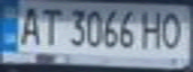0: (84, 6, 106, 49)
3: (63, 6, 87, 47)
6: (118, 7, 139, 51), (103, 6, 124, 49)
A: (15, 2, 45, 46)
H: (139, 7, 169, 51)
O: (157, 8, 187, 51)
T: (36, 3, 63, 46)
